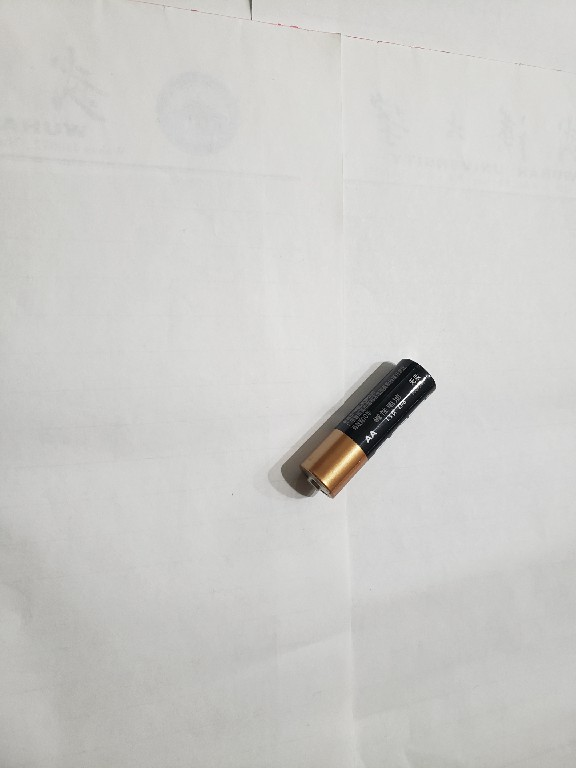charge: (294, 357, 437, 501)
